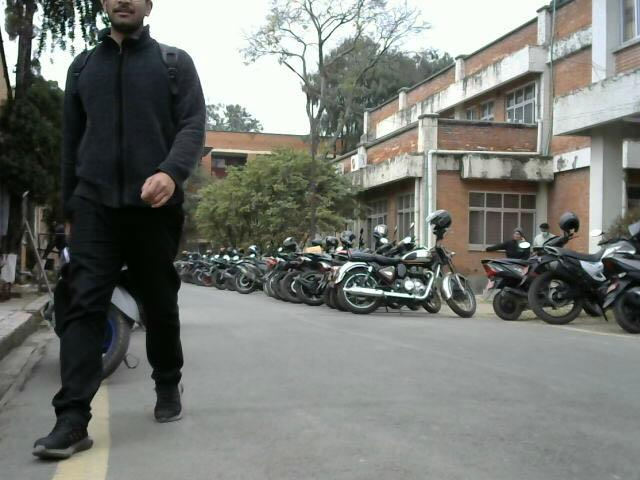Building: (357, 0, 640, 214)
Motorcycle: (204, 243, 640, 333)
Person: (28, 0, 195, 459)
Road: (188, 285, 640, 480)
Tree: (208, 160, 347, 238)
